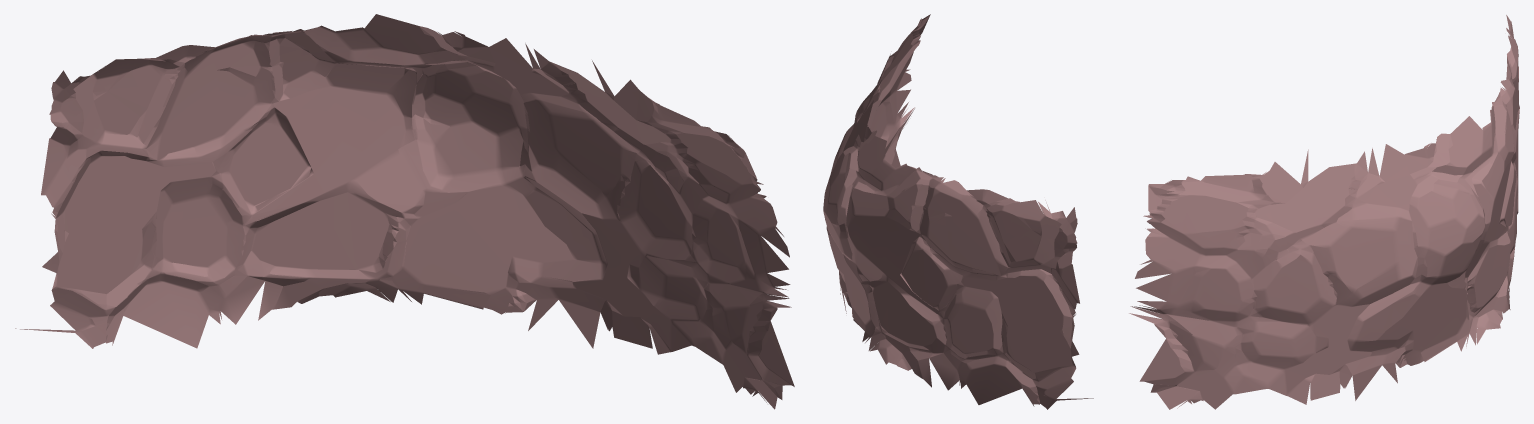
Rendered from plateau.fbx_Rock_Plateau_014LODs.fbx.
3 renders of one model, left to right at view 1: azimuth 30°, elevation 25°; view 2: azimuth 150°, elevation 25°; view 3: azimuth 270°, elevation 25°, orthographic. The views are drawn at different scales.
Parts seen in each view (by area): view 1: Rock Plateau.014_LOD0; view 2: Rock Plateau.014_LOD0; view 3: Rock Plateau.014_LOD0.
Part boxes in pixels (x1,y1,x2,y2): Rock Plateau.014_LOD0: [15, 14, 794, 409]; Rock Plateau.014_LOD0: [823, 14, 1093, 409]; Rock Plateau.014_LOD0: [1129, 15, 1519, 409].
Size of what is drawn, in the model's own units: 5059 by 2958 by 4352.
